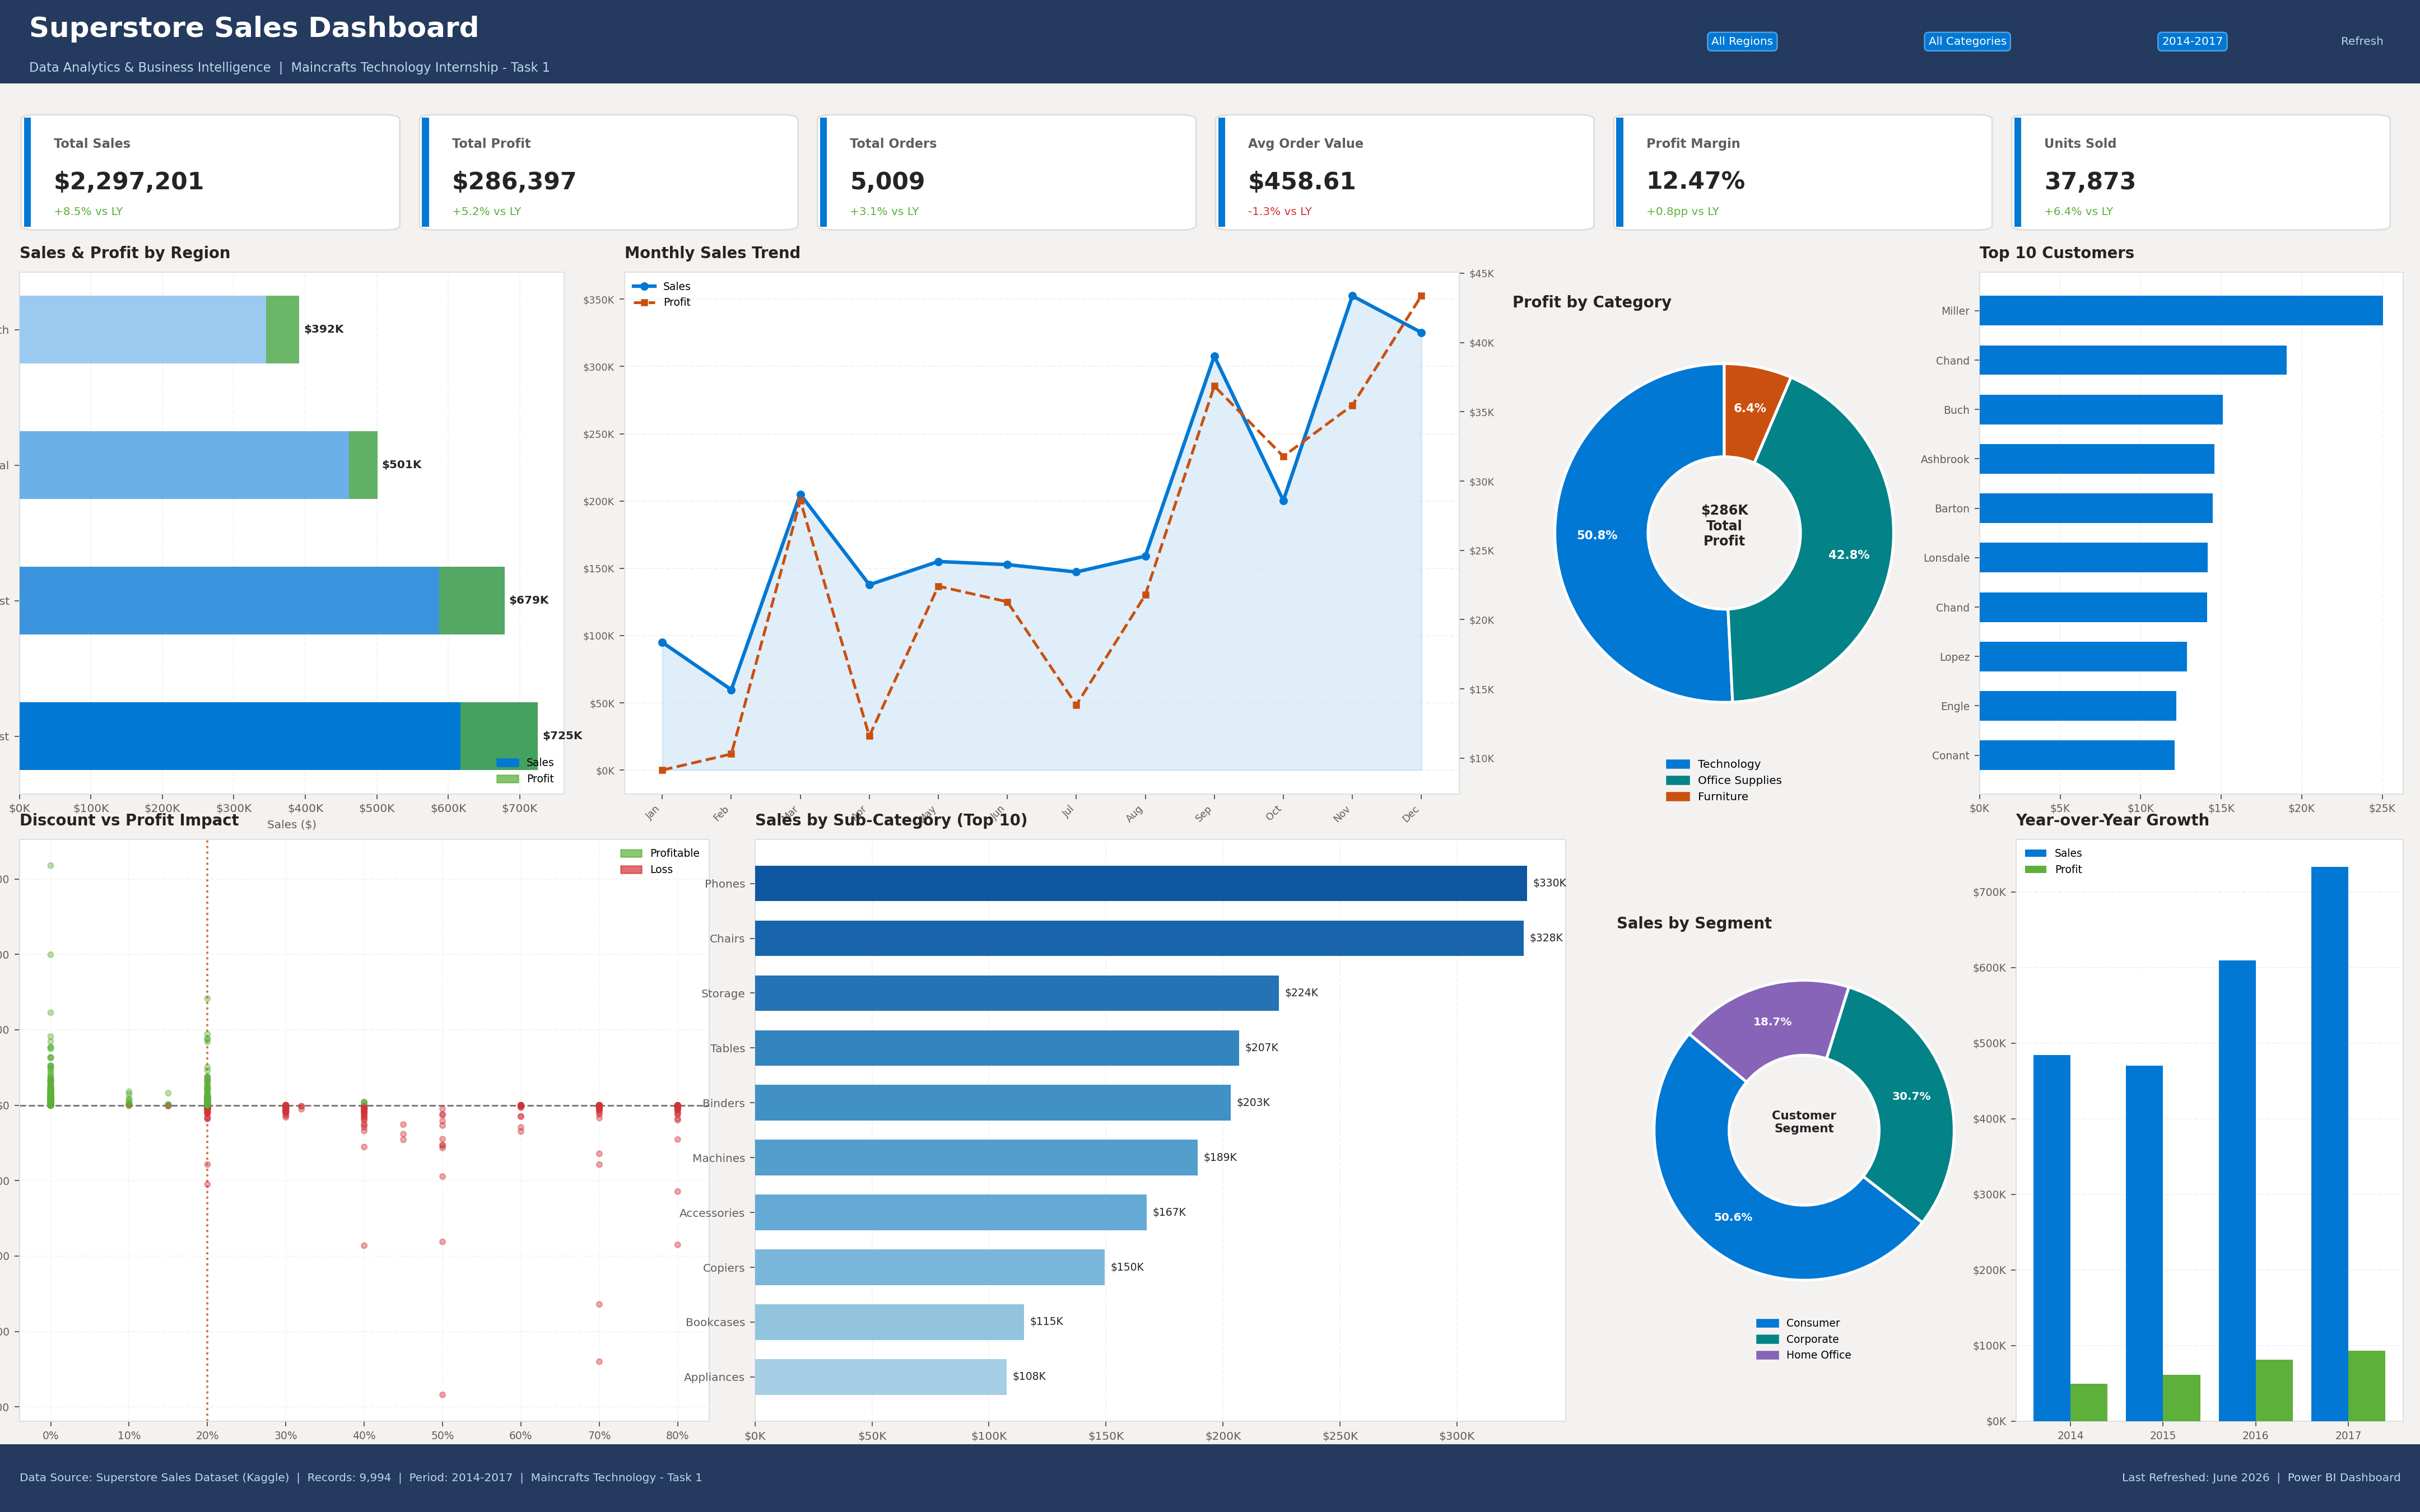

The page's visual inventory and layout, read from the dashboard file:
{"tool":"powerbi","page":{"name":"dashboard","canvas":[1280,720],"ordinal":0},"visuals":[{"type":"shape","box":[0,0.9,1279.7,53.7],"z":0},{"type":"textbox","box":[538.2,0.9,231.9,43],"z":1},{"type":"textbox","box":[410.1,24.2,475.5,30.4],"z":2},{"type":"cardVisual","fields":{"Data":["Sum(Cleaned Data.Sales)"]},"box":[0,53.7,180,100.3],"z":3},{"type":"shape","box":[12.5,70.7,12.5,67.2],"z":4},{"type":"cardVisual","fields":{"Data":["Sum(Cleaned Data.Profit)"]},"box":[180,54.6,180,100.3],"z":5},{"type":"shape","box":[195.2,70.7,12.5,67.2],"z":6},{"type":"cardVisual","fields":{"Data":["Count(Cleaned Data.Order ID)"]},"box":[377,54.6,180,100.3],"z":7},{"type":"shape","box":[390.4,70.7,12.5,67.2],"z":8},{"type":"cardVisual","fields":{"Data":["Cleaned Data.Average Order Value"]},"box":[557.9,54.6,180,100.3],"z":9},{"type":"shape","box":[571.3,70.7,12.5,67.2],"z":10},{"type":"cardVisual","fields":{"Data":["Cleaned Data.Profit Margin"]},"box":[746,54.6,219.4,100.3],"z":11},{"type":"shape","box":[757.6,70.7,12.5,67.2],"z":12},{"type":"cardVisual","fields":{"Data":["Sum(Cleaned Data.Quantity)"]},"box":[965.4,54.6,219.4,100.3],"z":13},{"type":"shape","box":[980.6,70.7,12.5,67.2],"z":14},{"type":"barChart","title":"Sales & Profit by Region","fields":{"Category":["Cleaned Data.Region"],"Y":["Sum(Cleaned Data.Sales)","Sum(Cleaned Data.Profit)"]},"box":[27.8,154.9,360,240],"z":15},{"type":"lineChart","title":"Sales & Profit by  Shipping Mode","fields":{"Y":["Sum(Cleaned Data.Sales)"],"Y2":["Sum(Cleaned Data.Profit)"],"Category":["Cleaned Data.Ship Mode"]},"box":[451.3,154.9,360,240],"z":16},{"type":"donutChart","title":"Profit Contribution by Category","fields":{"Category":["Cleaned Data.Category"],"Y":["Sum(Cleaned Data.Profit)"]},"box":[885.7,158.5,360,214],"z":17},{"type":"clusteredColumnChart","title":"Units Sold by Category","fields":{"Category":["Cleaned Data.Category"],"Y":["Sum(Cleaned Data.Quantity)"]},"box":[47.5,425.4,307.2,240],"z":18},{"type":"treemap","title":"Sales Distribution by category","fields":{"Group":["Cleaned Data.Category"],"Values":["Sum(Cleaned Data.Sales)"]},"box":[451.3,425.4,360,240],"z":19},{"type":"scatterChart","title":"Impacts of Discount on Profit","fields":{"X":["Sum(Cleaned Data.Discount)"],"Y":["Sum(Cleaned Data.Profit)"],"Size":["Sum(Cleaned Data.Sales)"],"Category":["Cleaned Data.Sub-Category"]},"box":[856.1,425.4,405.7,240],"z":20},{"type":"shape","box":[0,679.7,1279.7,40.3],"z":21},{"type":"textbox","box":[0,686,732.5,27.8],"z":22}]}

Visuals, with their boxes on the page's 1280x720 design canvas (x1, y1, x2, y2). These are canvas units, not pixel positions in the 2420x1512 screenshot, which may show the page scaled, cropped or inside an application window:
shape: (x1=0, y1=1, x2=1280, y2=55)
textbox: (x1=538, y1=1, x2=770, y2=44)
textbox: (x1=410, y1=24, x2=886, y2=55)
cardVisual - Sum(Cleaned Data.Sales): (x1=0, y1=54, x2=180, y2=154)
shape: (x1=12, y1=71, x2=25, y2=138)
cardVisual - Sum(Cleaned Data.Profit): (x1=180, y1=55, x2=360, y2=155)
shape: (x1=195, y1=71, x2=208, y2=138)
cardVisual - Count(Cleaned Data.Order ID): (x1=377, y1=55, x2=557, y2=155)
shape: (x1=390, y1=71, x2=403, y2=138)
cardVisual - Cleaned Data.Average Order Value: (x1=558, y1=55, x2=738, y2=155)
shape: (x1=571, y1=71, x2=584, y2=138)
cardVisual - Cleaned Data.Profit Margin: (x1=746, y1=55, x2=965, y2=155)
shape: (x1=758, y1=71, x2=770, y2=138)
cardVisual - Sum(Cleaned Data.Quantity): (x1=965, y1=55, x2=1185, y2=155)
shape: (x1=981, y1=71, x2=993, y2=138)
"Sales & Profit by Region" barChart: (x1=28, y1=155, x2=388, y2=395)
"Sales & Profit by  Shipping Mode" lineChart: (x1=451, y1=155, x2=811, y2=395)
"Profit Contribution by Category" donutChart: (x1=886, y1=158, x2=1246, y2=372)
"Units Sold by Category" clusteredColumnChart: (x1=48, y1=425, x2=355, y2=665)
"Sales Distribution by category" treemap: (x1=451, y1=425, x2=811, y2=665)
"Impacts of Discount on Profit" scatterChart: (x1=856, y1=425, x2=1262, y2=665)
shape: (x1=0, y1=680, x2=1280, y2=720)
textbox: (x1=0, y1=686, x2=732, y2=714)
